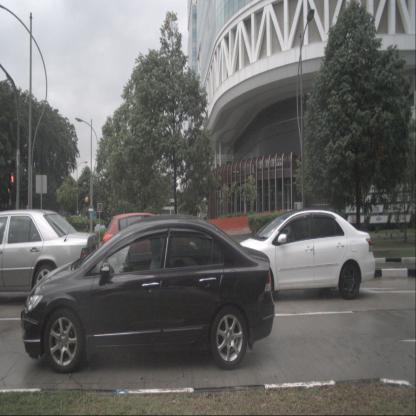vehicle-car: (21, 214, 275, 374), (235, 209, 375, 300), (0, 209, 99, 305), (102, 212, 200, 277)
